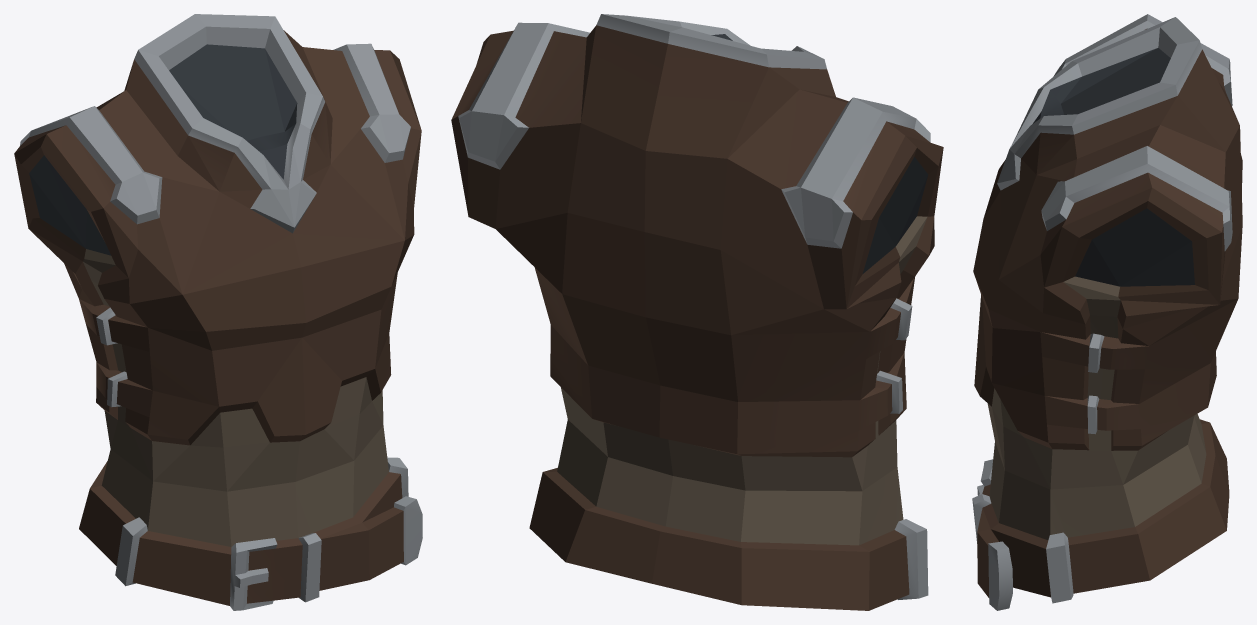
Rendered from Chr_Torso_Male_13_Static.fbx.
3 views of the same model, side by side, from view 1: azimuth 30°, elevation 25°; view 2: azimuth 150°, elevation 25°; view 3: azimuth 270°, elevation 25° (orthographic). The views are drawn at different scales.
Visible parts, largest first — view 1: Chr_Torso_Male_13_Static; view 2: Chr_Torso_Male_13_Static; view 3: Chr_Torso_Male_13_Static.
Boxes of the visible parts, x1,y1,x2,y2 form: Chr_Torso_Male_13_Static: [14, 14, 422, 610]; Chr_Torso_Male_13_Static: [451, 14, 943, 610]; Chr_Torso_Male_13_Static: [972, 14, 1242, 610].
Size of the model in its own units: 0.502 by 0.6813 by 0.3222.
